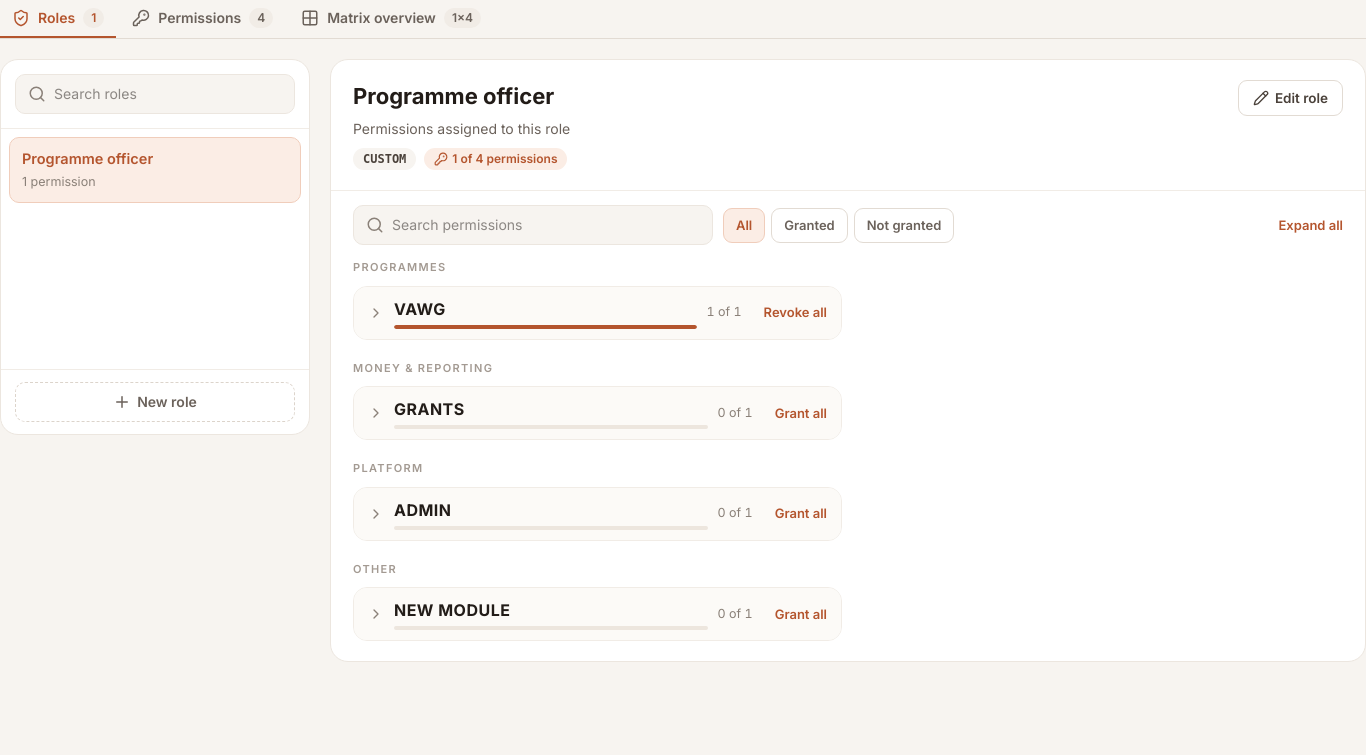
Test: administration screens › groups collapsed module cards by area in a grid, opening them on search or request
Expected: the headings read "Programmes", "Money & reporting", "Platform", "Other", in this order, x1=353 y1=260 x2=446 y2=274; x1=353 y1=361 x2=493 y2=375; x1=353 y1=461 x2=423 y2=475; x1=353 y1=562 x2=397 y2=576
Expected: the button "view cases" is not shown
A search opens the matching module.
Step 1. Type "approve" into the search field labelled "Search permissions" → (546,225), box x1=392 y1=215 x2=700 y2=235
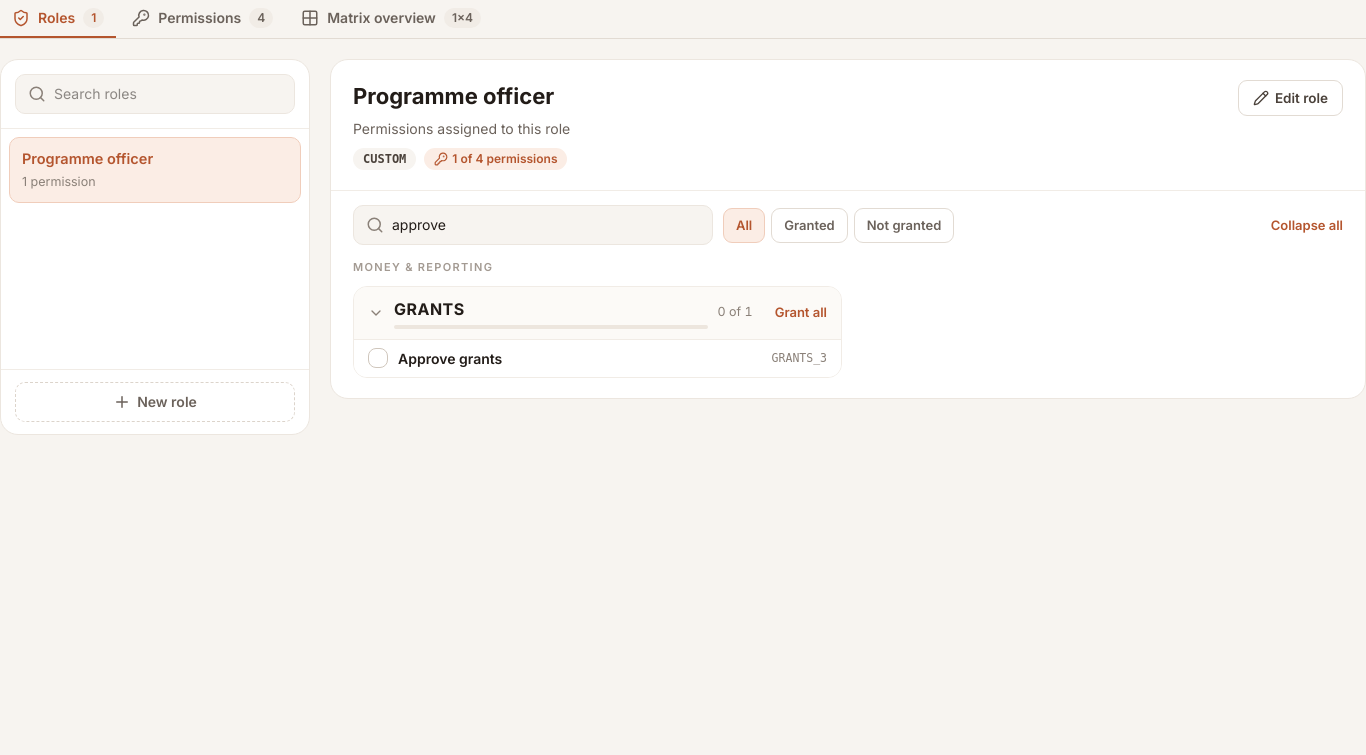
Step 2. Clear the search field named "Search permissions" → (546,225), box x1=392 y1=215 x2=700 y2=235
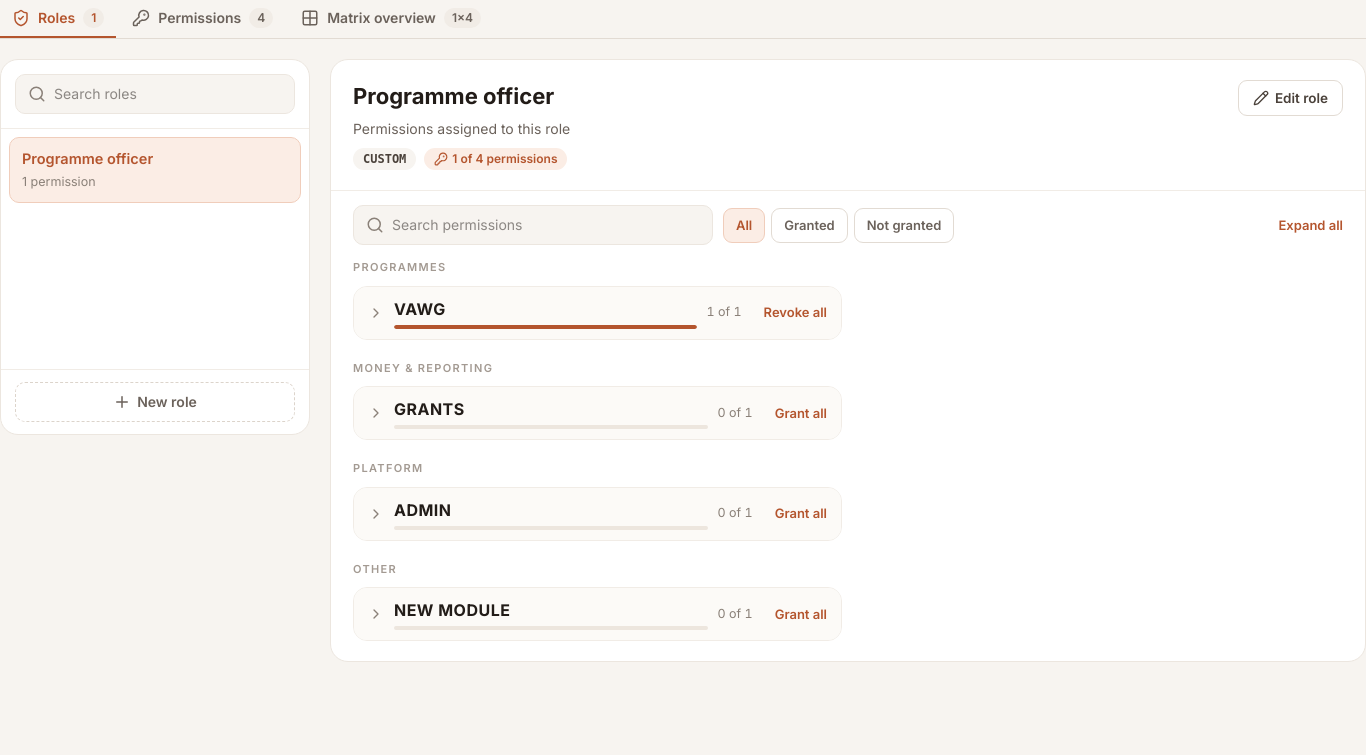
Expected: the button "Approve grants" is gone
Expand all and collapse all.
Step 3. Click the button "Expand all" → (1311,225), box x1=1278 y1=216 x2=1343 y2=235
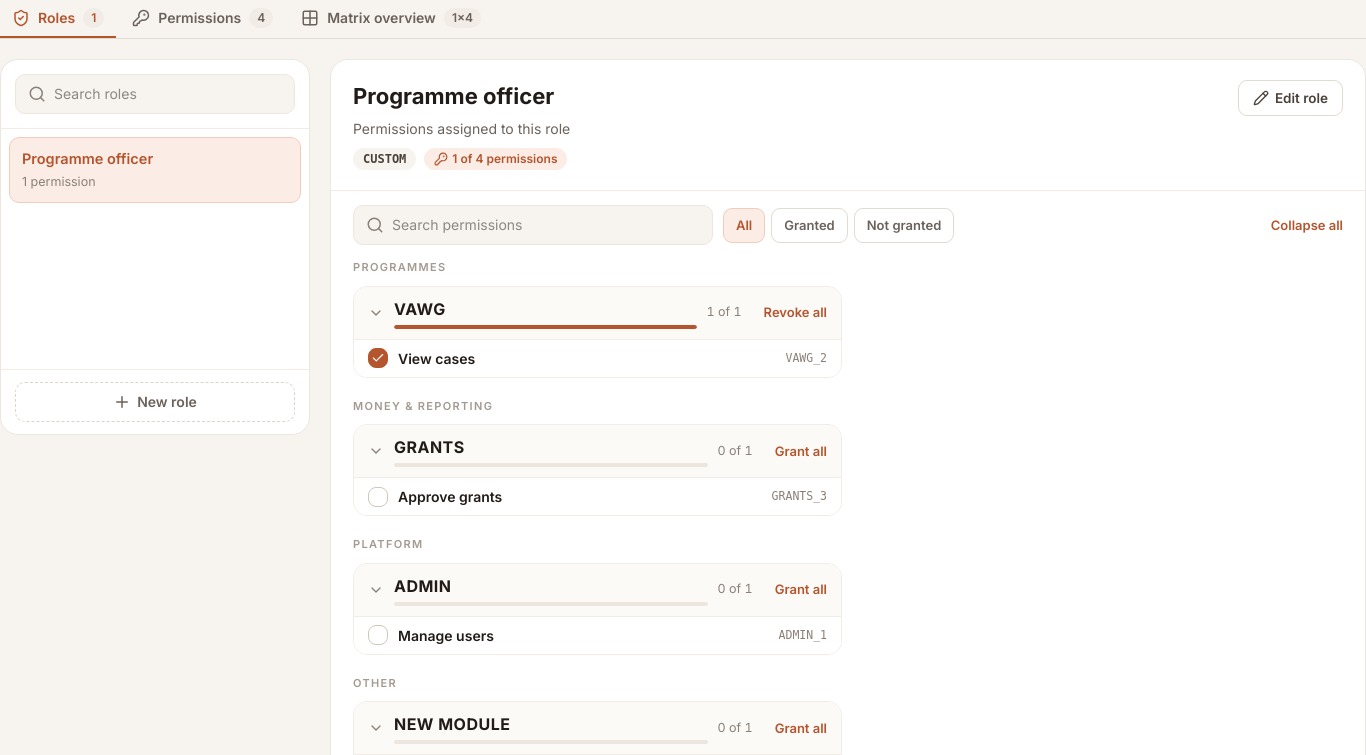
Expected: the button "Manage users ADMIN_1" is shown, x1=354 y1=616 x2=841 y2=654
Step 4. Click the button "Collapse all" → (1307,225), box x1=1271 y1=216 x2=1343 y2=235
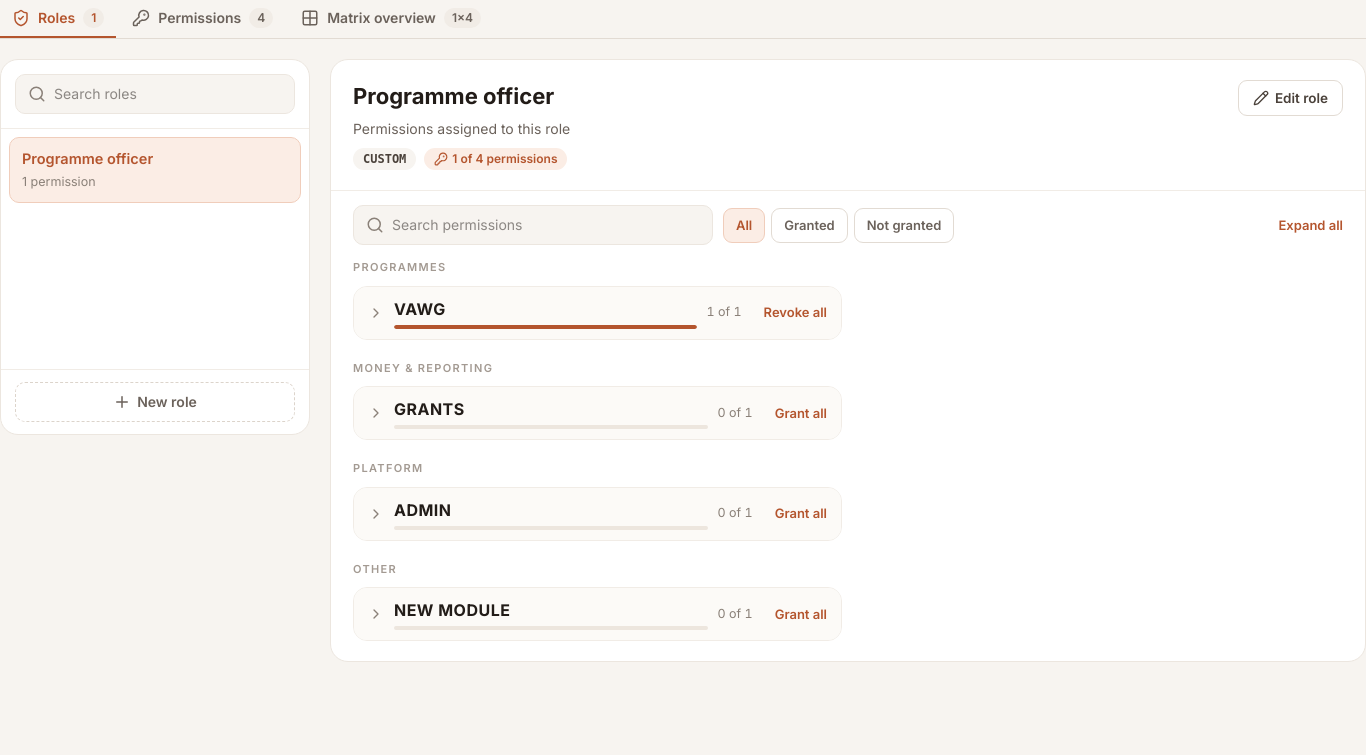
Expected: the button "Manage users" is gone
An unsaved change keeps its module open.
Step 5. Click the button "ADMIN 0 of 1" → (423,510), box x1=354 y1=488 x2=767 y2=540
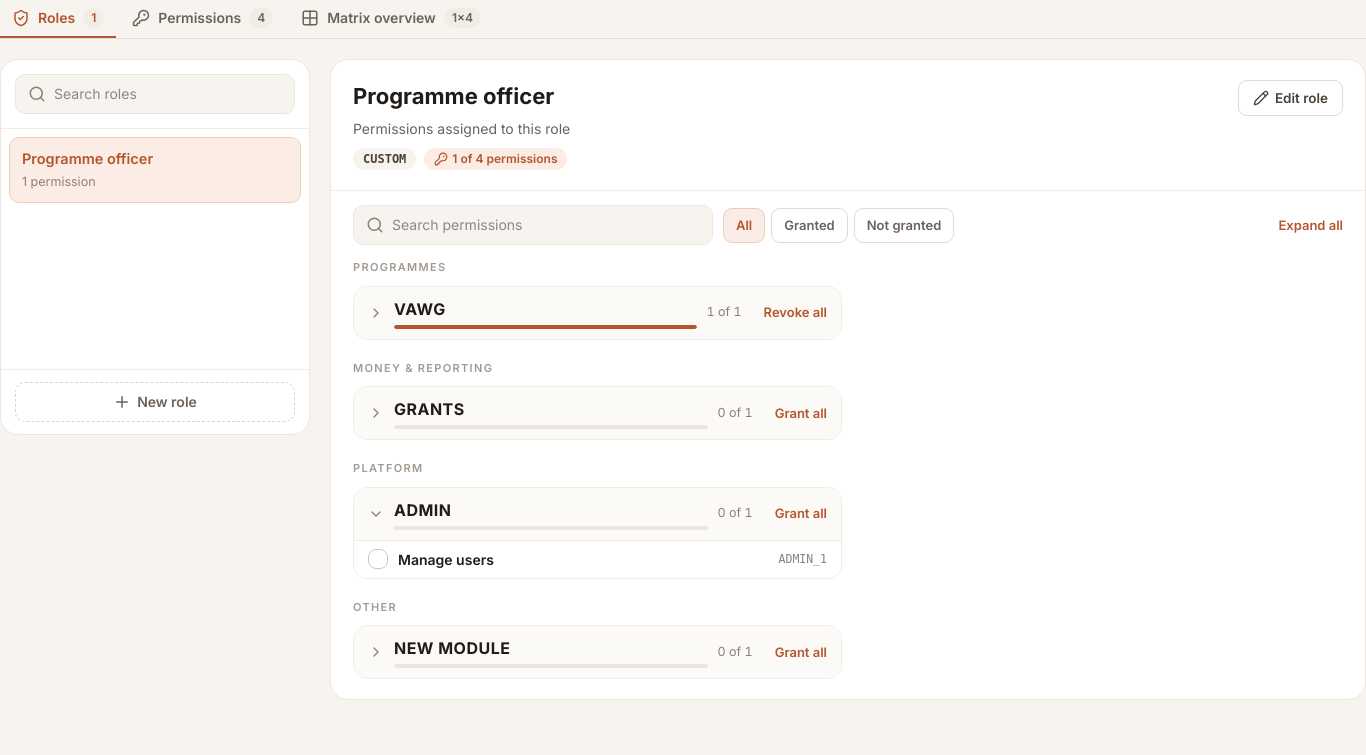
Step 6. Click the button "Manage users ADMIN_1" → (446,559), box x1=354 y1=540 x2=841 y2=578
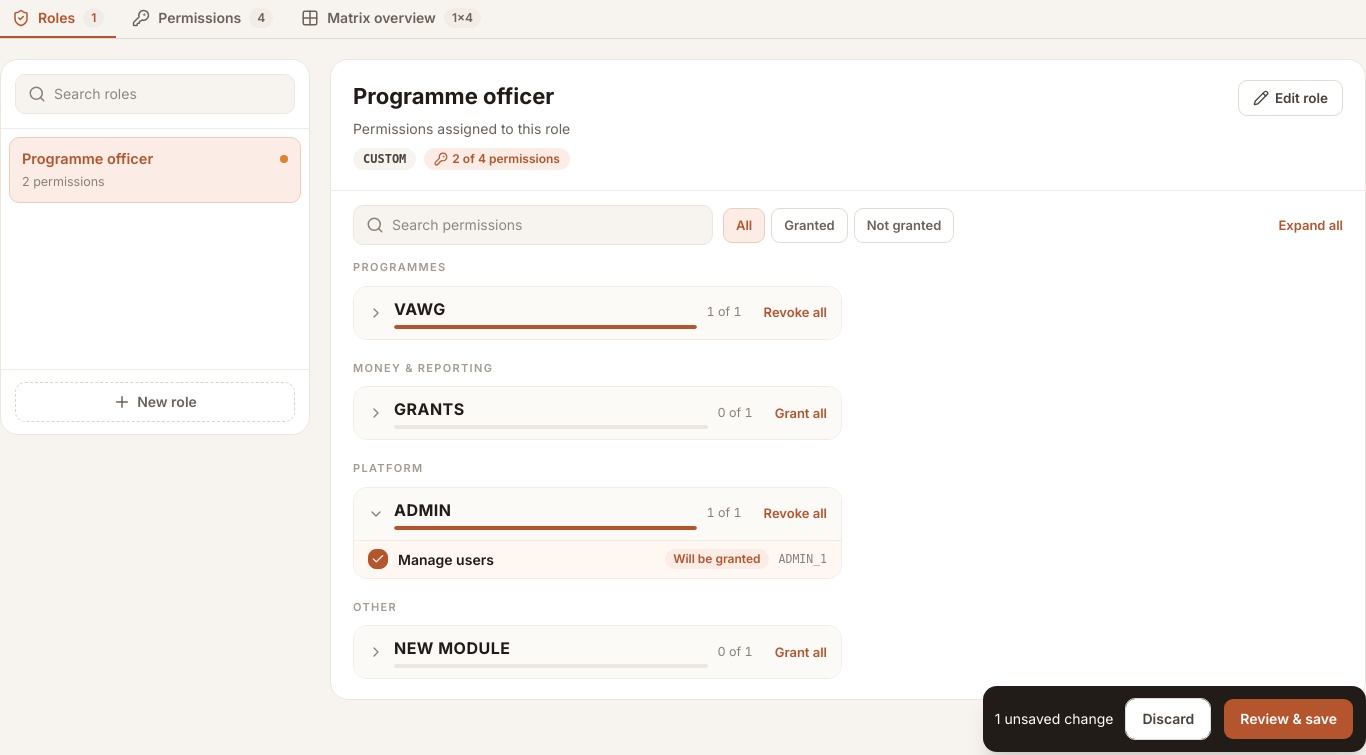
Expected: the text "Will be granted" is shown, x1=665 y1=549 x2=768 y2=569
